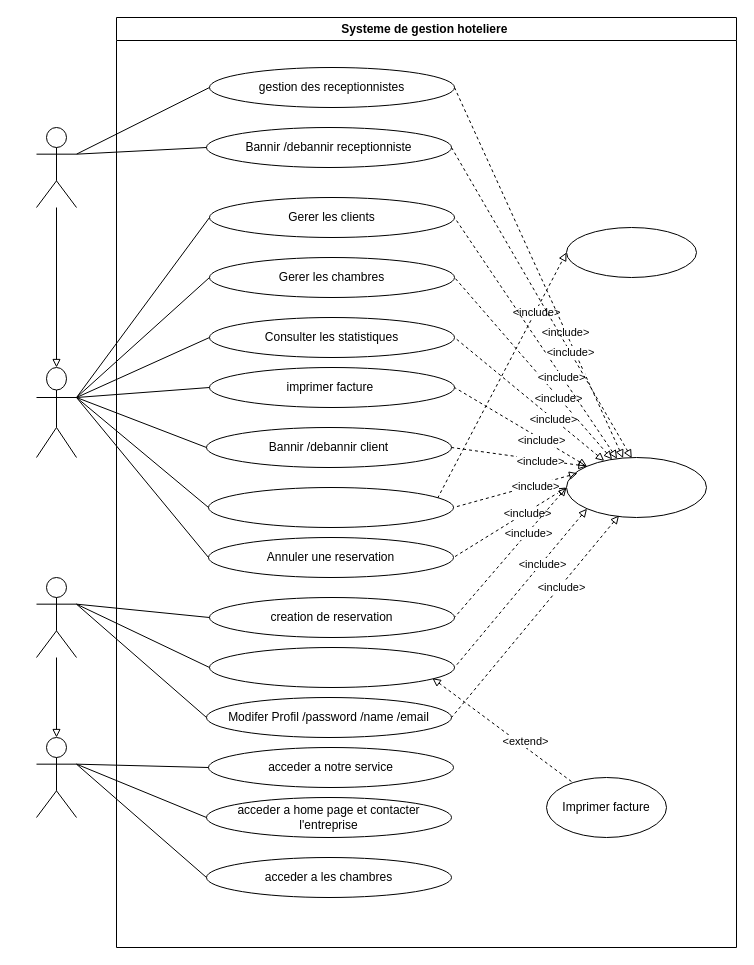
Image size: 754x965. Some labels were removed from this diagram. Here are the shapes that lost their labels. From the top down, the box of each, then its label:
(36, 126, 76, 208): Admin
(566, 226, 696, 278): creer des paiement
(36, 366, 76, 458): Receptionniste
(208, 486, 454, 528): creer une reservation
(566, 456, 706, 518): Authentification
(36, 576, 76, 658): Client
(208, 646, 454, 688): consulter ses reservations
(36, 736, 76, 818): Visiteur
